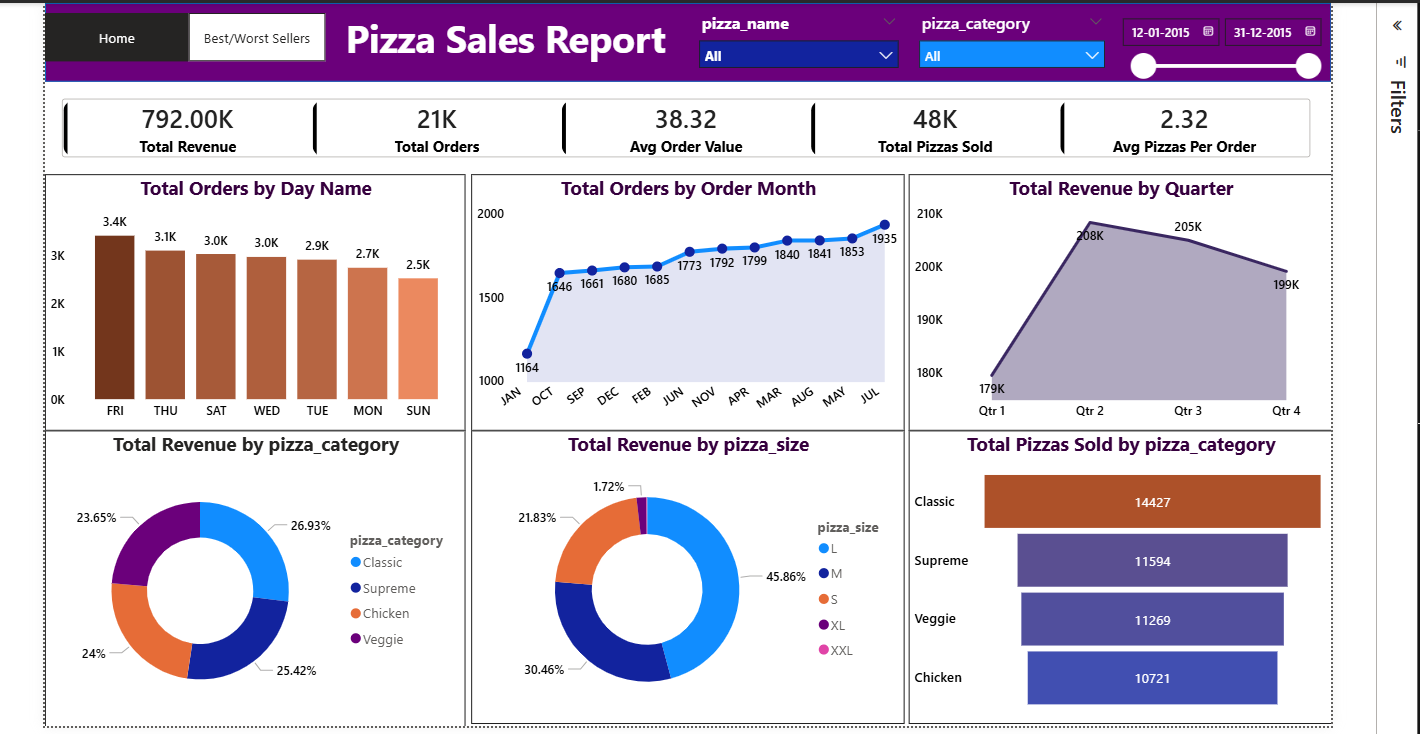

The page's visual inventory and layout, read from the dashboard file:
{"tool":"powerbi","page":{"name":"Home","canvas":[1280,720],"ordinal":0},"visuals":[{"type":"cardVisual","fields":{"Data":["pizza_sales.Total Revenue","pizza_sales.Total Orders","pizza_sales.Avg Order Value","pizza_sales.Total Pizzas Sold","pizza_sales.Avg Pizzas Per Order"]},"box":[0,78.4,1280,92.1],"z":0},{"type":"shape","box":[0,0,1280,78.4],"z":1000},{"type":"textbox","box":[279.9,5,357,59.7],"z":2000},{"type":"columnChart","fields":{"Category":["pizza_sales.Day Name"],"Y":["pizza_sales.Total Orders"]},"box":[0,170.2,418.5,255.2],"z":3000},{"type":"stackedAreaChart","fields":{"Category":["pizza_sales.Order Month"],"Y":["pizza_sales.Total Orders"]},"box":[424,170.2,430.9,255.2],"z":4000},{"type":"donutChart","fields":{"Y":["pizza_sales.Total Revenue"],"Category":["pizza_sales.pizza_category"]},"box":[0,425.4,418.5,295],"z":5000},{"type":"lineChart","fields":{"Category":["pizza_sales.order_date.Variation.Date Hierarchy.Quarter"],"Y":["pizza_sales.Total Revenue"]},"box":[859,170.2,421.3,255.2],"z":6000},{"type":"donutChart","fields":{"Category":["pizza_sales.pizza_size"],"Y":["pizza_sales.Total Revenue"]},"box":[424,425.4,430.9,292.3],"z":7000},{"type":"funnel","fields":{"Category":["pizza_sales.pizza_category"],"Y":["pizza_sales.Total Pizzas Sold"]},"box":[859,425.4,421.3,292.3],"z":8000},{"type":"slicer","fields":{"Values":["pizza_sales.pizza_category"]},"box":[859.6,3.7,205.3,68.4],"z":9000},{"type":"slicer","fields":{"Values":["pizza_sales.order_date"]},"box":[1059.9,5,218.9,73.4],"z":10000},{"type":"pageNavigator","box":[0,10,143.1,48.5],"z":11000},{"type":"pageNavigator","box":[143.1,10,136.8,48.5],"z":12000},{"type":"slicer","fields":{"Values":["pizza_sales.pizza_name"]},"box":[640.6,3.7,218.9,74.6],"z":13000}]}

Visuals, with their boxes on the page's 1280x720 design canvas (x1, y1, x2, y2). These are canvas units, not pixel positions in the 1420x734 screenshot, which may show the page scaled, cropped or inside an application window:
cardVisual - pizza_sales.Total Revenue x pizza_sales.Total Orders: bbox(0, 78, 1280, 170)
shape: bbox(0, 0, 1280, 78)
textbox: bbox(280, 5, 637, 65)
columnChart - pizza_sales.Day Name x pizza_sales.Total Orders: bbox(0, 170, 418, 425)
stackedAreaChart - pizza_sales.Order Month x pizza_sales.Total Orders: bbox(424, 170, 855, 425)
donutChart - pizza_sales.Total Revenue x pizza_sales.pizza_category: bbox(0, 425, 418, 720)
lineChart - pizza_sales.order_date.Variation.Date Hierarchy.Quarter x pizza_sales.Total Revenue: bbox(859, 170, 1280, 425)
donutChart - pizza_sales.pizza_size x pizza_sales.Total Revenue: bbox(424, 425, 855, 718)
funnel - pizza_sales.pizza_category x pizza_sales.Total Pizzas Sold: bbox(859, 425, 1280, 718)
slicer - pizza_sales.pizza_category: bbox(860, 4, 1065, 72)
slicer - pizza_sales.order_date: bbox(1060, 5, 1279, 78)
pageNavigator: bbox(0, 10, 143, 58)
pageNavigator: bbox(143, 10, 280, 58)
slicer - pizza_sales.pizza_name: bbox(641, 4, 860, 78)
